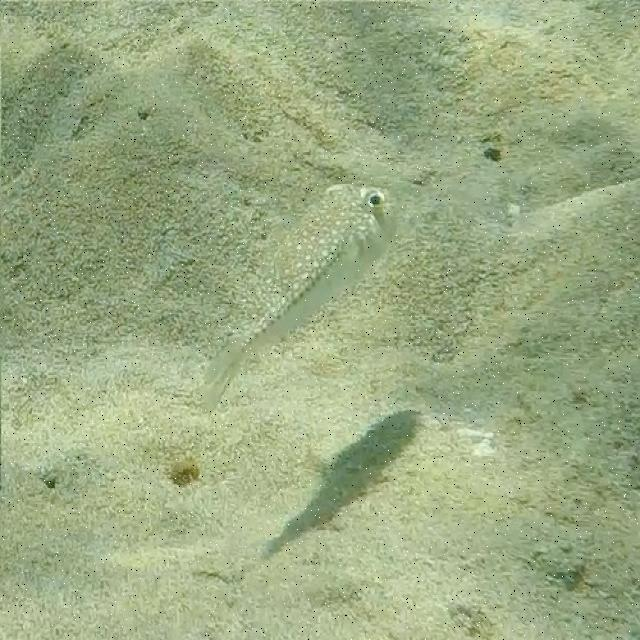Balik: (204, 184, 394, 411)
